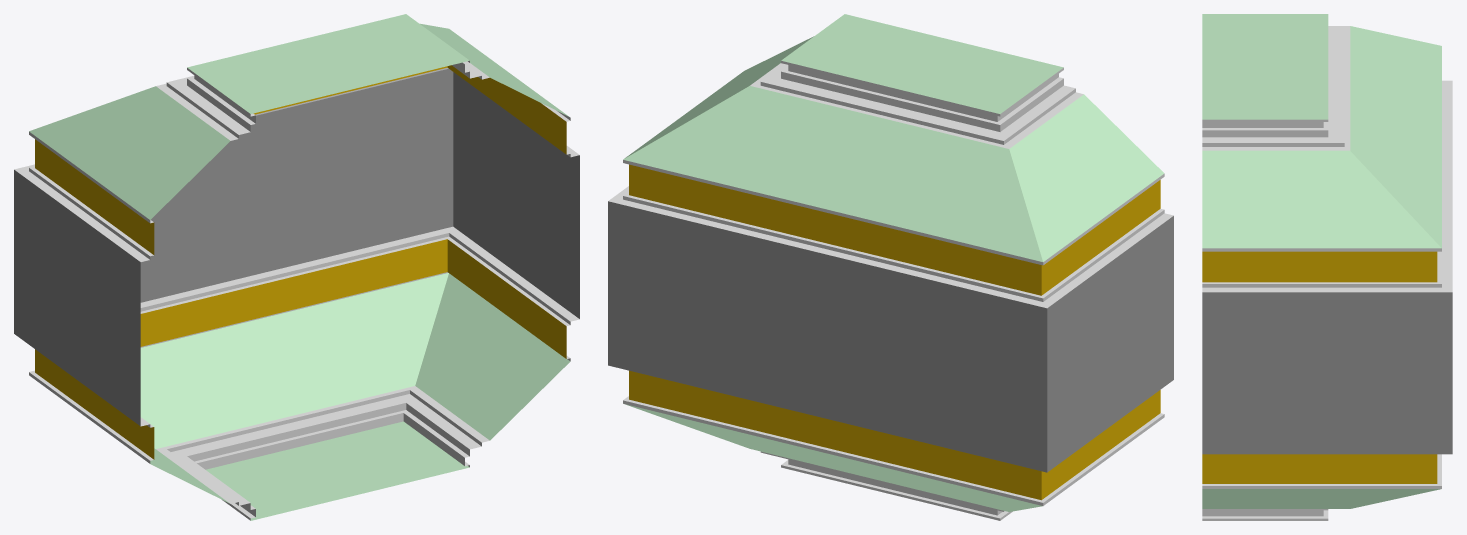
Rendered from Box End.fbx.
3 renders of one model, left to right at view 1: azimuth 30°, elevation 25°; view 2: azimuth 150°, elevation 25°; view 3: azimuth 270°, elevation 25°, orthographic.
Parts seen in each view (by area): view 1: Cube; view 2: Cube; view 3: Cube.
Part boxes in pixels (<box>): Cube: <box>14,14,579,520</box>; Cube: <box>608,14,1173,520</box>; Cube: <box>1202,14,1452,520</box>.
Bounding box in the file's own units: 498 × 440 × 249.
